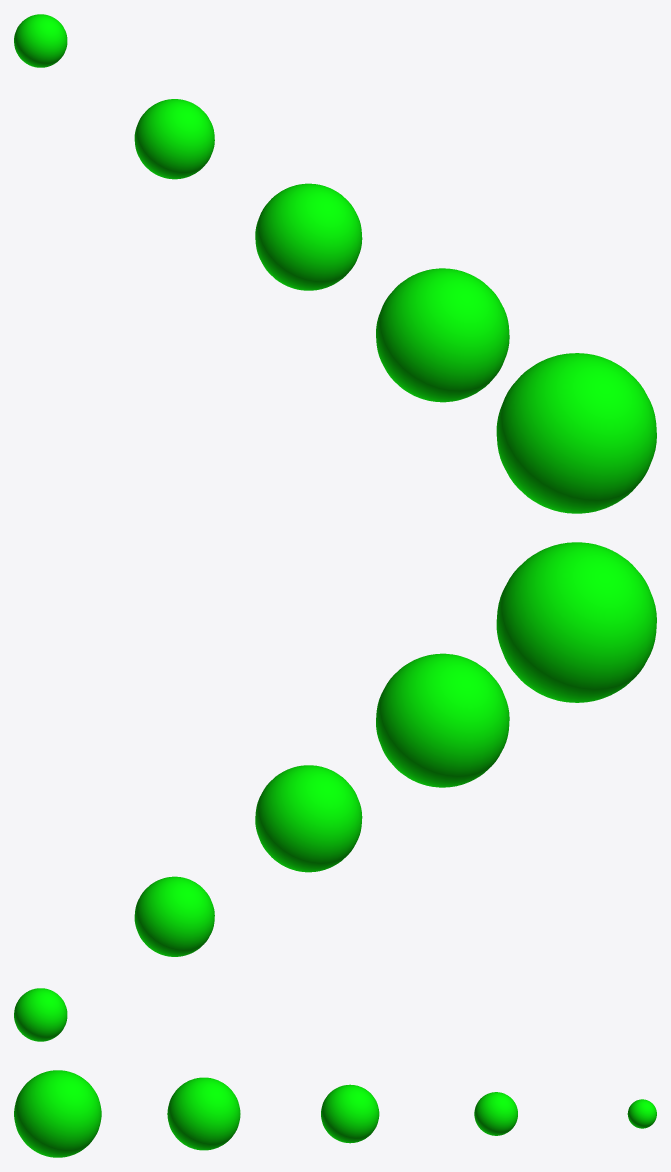
File: dots_trail.gltf
3 views of the same model, one above another, from view 1: azimuth 30°, elevation 25°; view 2: azimuth 150°, elevation 25°; view 3: azimuth 270°, elevation 25° (orthographic). The views are drawn at different scales.
Bounding box in the file's own units: 0.12 × 0.12 × 0.88.
